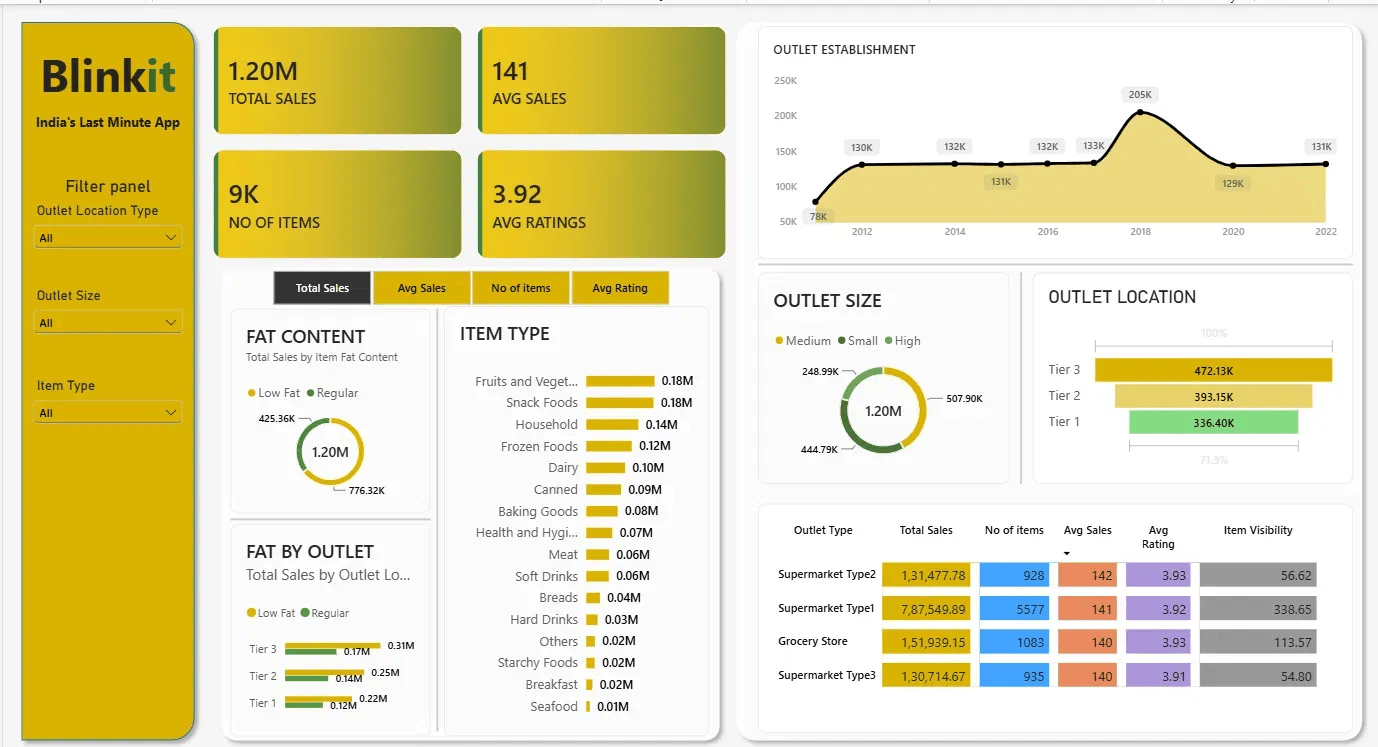

This screenshot's page, from the dashboard's own definition file:
{"tool":"powerbi","page":{"name":"Page 1","canvas":[1480,800],"ordinal":0},"visuals":[{"type":"shape","box":[779.8,9.4,691.1,790.6],"z":0},{"type":"shape","box":[225.9,272.9,553.9,527],"z":1000},{"type":"shape","box":[10.8,9.4,204.4,790.6],"z":2000},{"type":"textbox","box":[28.2,41.7,169.4,73.9],"z":3000},{"type":"textbox","box":[28.2,115.6,169.4,32.3],"z":4000},{"type":"cardVisual","fields":{"Data":["BlinkIT Grocery Data.Total Sales","BlinkIT Grocery Data.Avg Sales","BlinkIT Grocery Data.No of items","BlinkIT Grocery Data.Avg Rating"]},"box":[225.9,22.9,553.9,250.1],"z":5000},{"type":"donutChart","title":"FAT CONTENT","fields":{"Y":["BlinkIT Grocery Data.Total Sales"],"Category":["BlinkIT Grocery Data.Item Fat Content"]},"box":[244.7,326.7,215.1,219.2],"z":6000},{"type":"slicer","fields":{"Values":["Metrics.Metrics"]},"box":[270.2,283.7,465,40],"z":7000},{"type":"clusteredBarChart","title":"FAT BY OUTLET","fields":{"Y":["BlinkIT Grocery Data.Total Sales"],"Category":["BlinkIT Grocery Data.Outlet Location Type"],"Series":["BlinkIT Grocery Data.Item Fat Content"]},"box":[244.7,558,215.1,228.6],"z":8000},{"type":"shape","box":[244.7,548.5,215.1,9.4],"z":9000},{"type":"shape","box":[459.8,326.7,14.8,454.4],"z":10000},{"type":"barChart","title":"ITEM TYPE","fields":{"Y":["BlinkIT Grocery Data.Total Sales"],"Category":["BlinkIT Grocery Data.Item Type"]},"box":[474.6,324,285,462.5],"z":11000},{"type":"lineChart","title":"OUTLET ESTABLISHMENT","fields":{"Y":["BlinkIT Grocery Data.Total Sales"],"Category":["BlinkIT Grocery Data.Outlet Establishment Year"]},"box":[812.1,22.9,640,250.1],"z":12000},{"type":"shape","box":[812.1,274.3,640,9.4],"z":13000},{"type":"donutChart","title":"OUTLET SIZE","fields":{"Y":["BlinkIT Grocery Data.Total Sales"],"Category":["BlinkIT Grocery Data.Outlet Size"]},"box":[812.1,287.7,270.2,227.2],"z":14000},{"type":"shape","box":[1082.3,287.7,25.5,227.2],"z":15000},{"type":"funnel","title":"OUTLET LOCATION","fields":{"Category":["BlinkIT Grocery Data.Outlet Location Type"],"Y":["Sum(BlinkIT Grocery Data.Sales)"]},"box":[1107.9,287.7,344.2,227.2],"z":16000},{"type":"pivotTable","fields":{"Rows":["BlinkIT Grocery Data.Outlet Type"],"Values":["BlinkIT Grocery Data.Total Sales","BlinkIT Grocery Data.No of items","BlinkIT Grocery Data.Avg Sales","BlinkIT Grocery Data.Avg Rating","Sum(BlinkIT Grocery Data.Item Visibility)"]},"box":[812.1,536.4,640,246],"z":17000},{"type":"slicer","fields":{"Values":["BlinkIT Grocery Data.Outlet Location Type"]},"box":[28.2,212.4,169.4,65.9],"z":18000},{"type":"slicer","fields":{"Values":["BlinkIT Grocery Data.Outlet Size"]},"box":[28.2,303.9,169.4,65.9],"z":19000},{"type":"slicer","fields":{"Values":["BlinkIT Grocery Data.Item Type"]},"box":[28.2,400.7,169.4,65.9],"z":20000},{"type":"textbox","title":"Filter panel","box":[32.3,184.2,161.3,28.2],"z":21000}]}

Visuals, with their boxes in screenshot pixels (x1, y1, x2, y2), scaled from the page's 1480x800 canvas onto the 1378x747 screenshot:
shape: <bbox>726, 9, 1370, 746</bbox>
shape: <bbox>210, 255, 726, 746</bbox>
shape: <bbox>10, 9, 200, 746</bbox>
textbox: <bbox>26, 39, 184, 108</bbox>
textbox: <bbox>26, 108, 184, 138</bbox>
cardVisual - BlinkIT Grocery Data.Total Sales x BlinkIT Grocery Data.Avg Sales: <bbox>210, 21, 726, 255</bbox>
"FAT CONTENT" donutChart: <bbox>228, 305, 428, 510</bbox>
slicer - Metrics.Metrics: <bbox>252, 265, 685, 302</bbox>
"FAT BY OUTLET" clusteredBarChart: <bbox>228, 521, 428, 734</bbox>
shape: <bbox>228, 512, 428, 521</bbox>
shape: <bbox>428, 305, 442, 729</bbox>
"ITEM TYPE" barChart: <bbox>442, 303, 707, 734</bbox>
"OUTLET ESTABLISHMENT" lineChart: <bbox>756, 21, 1352, 255</bbox>
shape: <bbox>756, 256, 1352, 265</bbox>
"OUTLET SIZE" donutChart: <bbox>756, 269, 1008, 481</bbox>
shape: <bbox>1008, 269, 1031, 481</bbox>
"OUTLET LOCATION" funnel: <bbox>1032, 269, 1352, 481</bbox>
pivotTable - BlinkIT Grocery Data.Outlet Type x BlinkIT Grocery Data.Total Sales: <bbox>756, 501, 1352, 731</bbox>
slicer - BlinkIT Grocery Data.Outlet Location Type: <bbox>26, 198, 184, 260</bbox>
slicer - BlinkIT Grocery Data.Outlet Size: <bbox>26, 284, 184, 345</bbox>
slicer - BlinkIT Grocery Data.Item Type: <bbox>26, 374, 184, 436</bbox>
"Filter panel" textbox: <bbox>30, 172, 180, 198</bbox>
